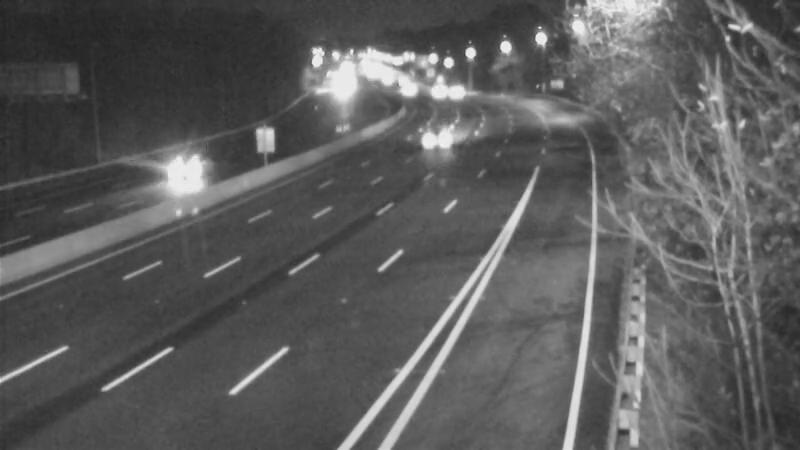vehicle: (130, 138, 210, 218), (434, 64, 484, 114), (415, 100, 465, 150)
